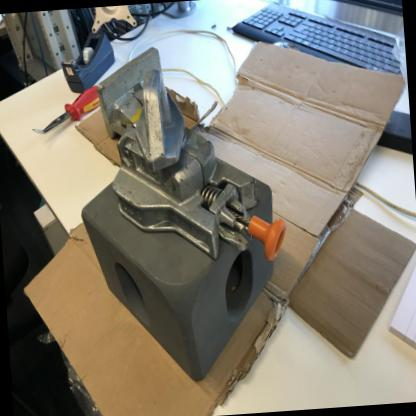Twistlock: (101, 34, 294, 277)
